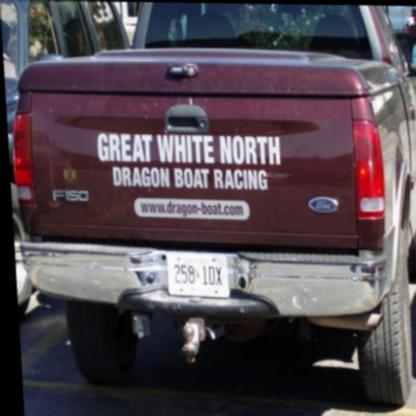License_Plate: (167, 252, 231, 299)
